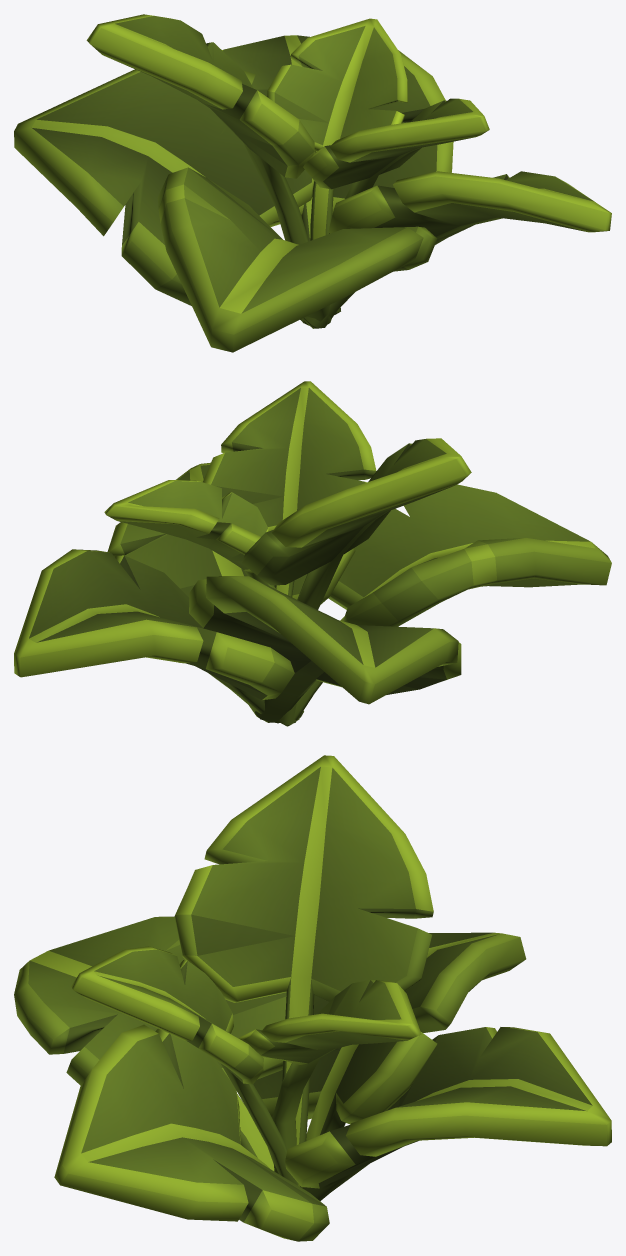
The model's file is philodendron_green_large_LOD_group.fbx.
3 renders of one model, top to bottom at view 1: azimuth 30°, elevation 25°; view 2: azimuth 150°, elevation 25°; view 3: azimuth 270°, elevation 25°, orthographic. The views are drawn at different scales.
Visible parts, largest first — view 1: philodendron_green_large_LOD0; view 2: philodendron_green_large_LOD0; view 3: philodendron_green_large_LOD0.
Boxes of the visible parts, left/top/right/bottom form: philodendron_green_large_LOD0: left=14, top=14, right=611, bottom=352; philodendron_green_large_LOD0: left=14, top=381, right=611, bottom=726; philodendron_green_large_LOD0: left=14, top=755, right=611, bottom=1241.
Size of what is drawn, in the model's own units: 297 by 220 by 330.
1 material, 1 textured.
